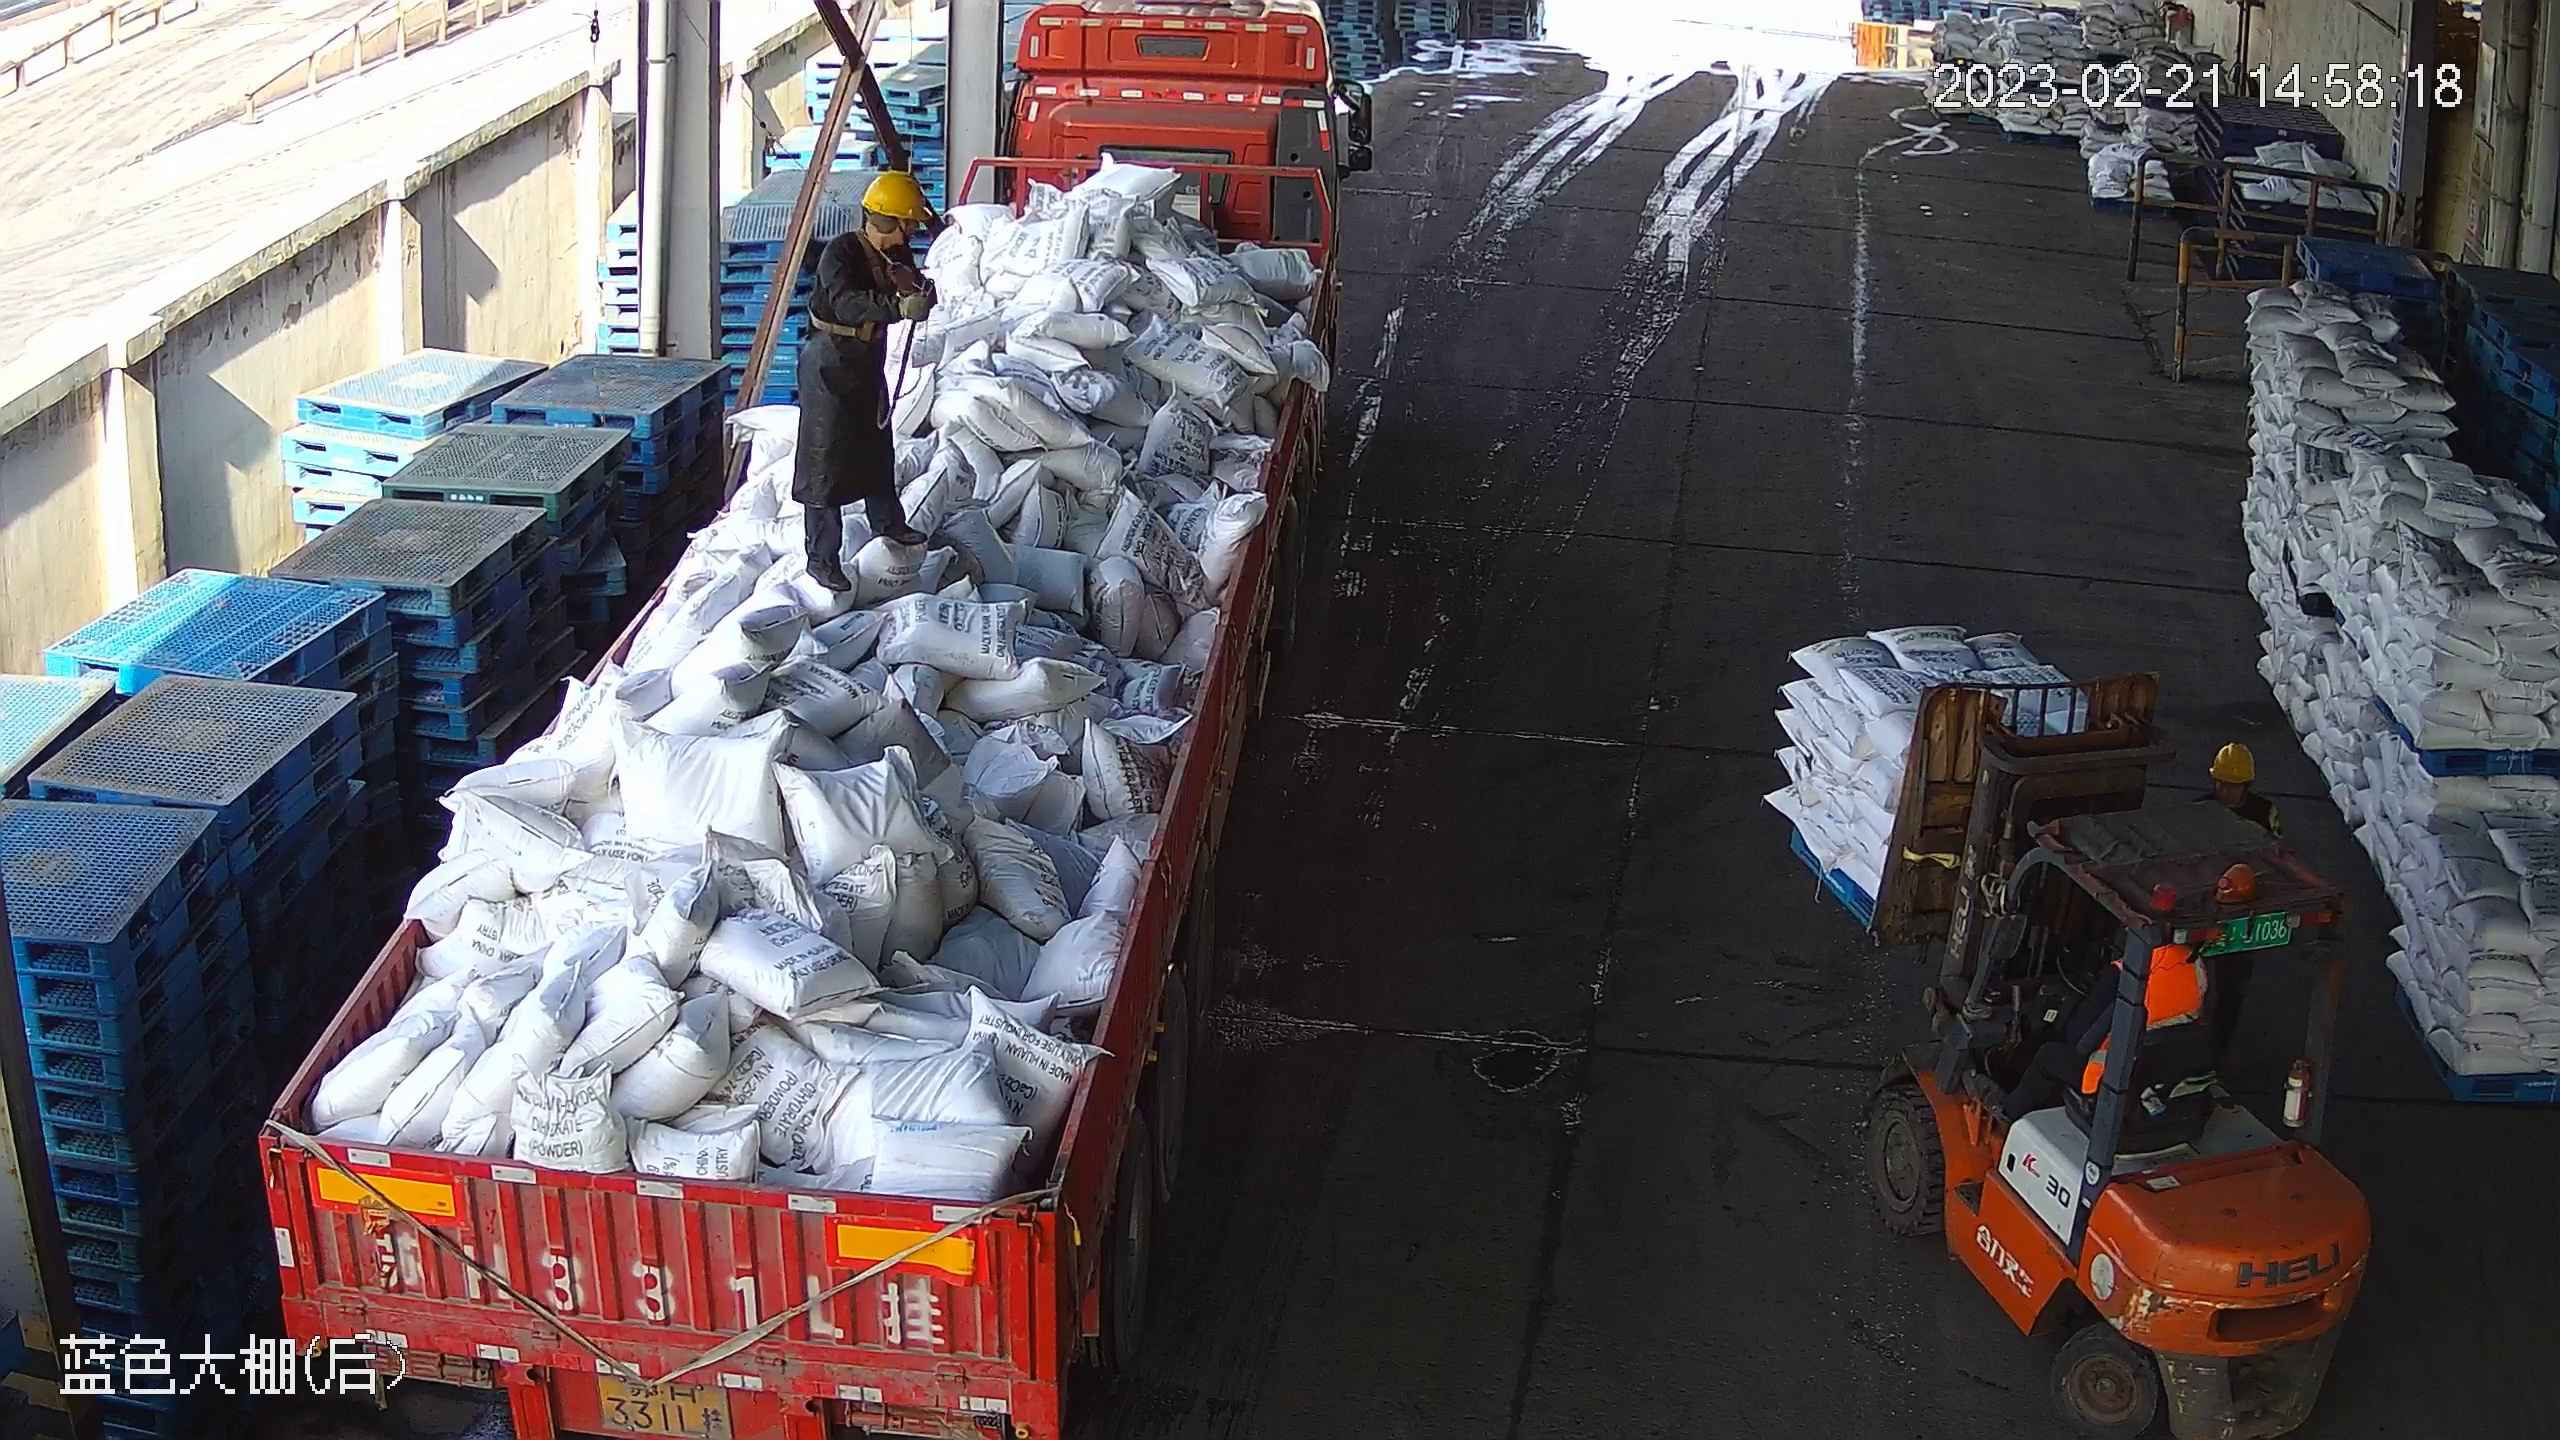belt: (804, 234, 896, 341)
head: (802, 169, 930, 311)
helmet: (858, 172, 930, 222)
people: (781, 171, 937, 597), (1964, 913, 2217, 1130)
truck: (253, 1, 1377, 1439)
